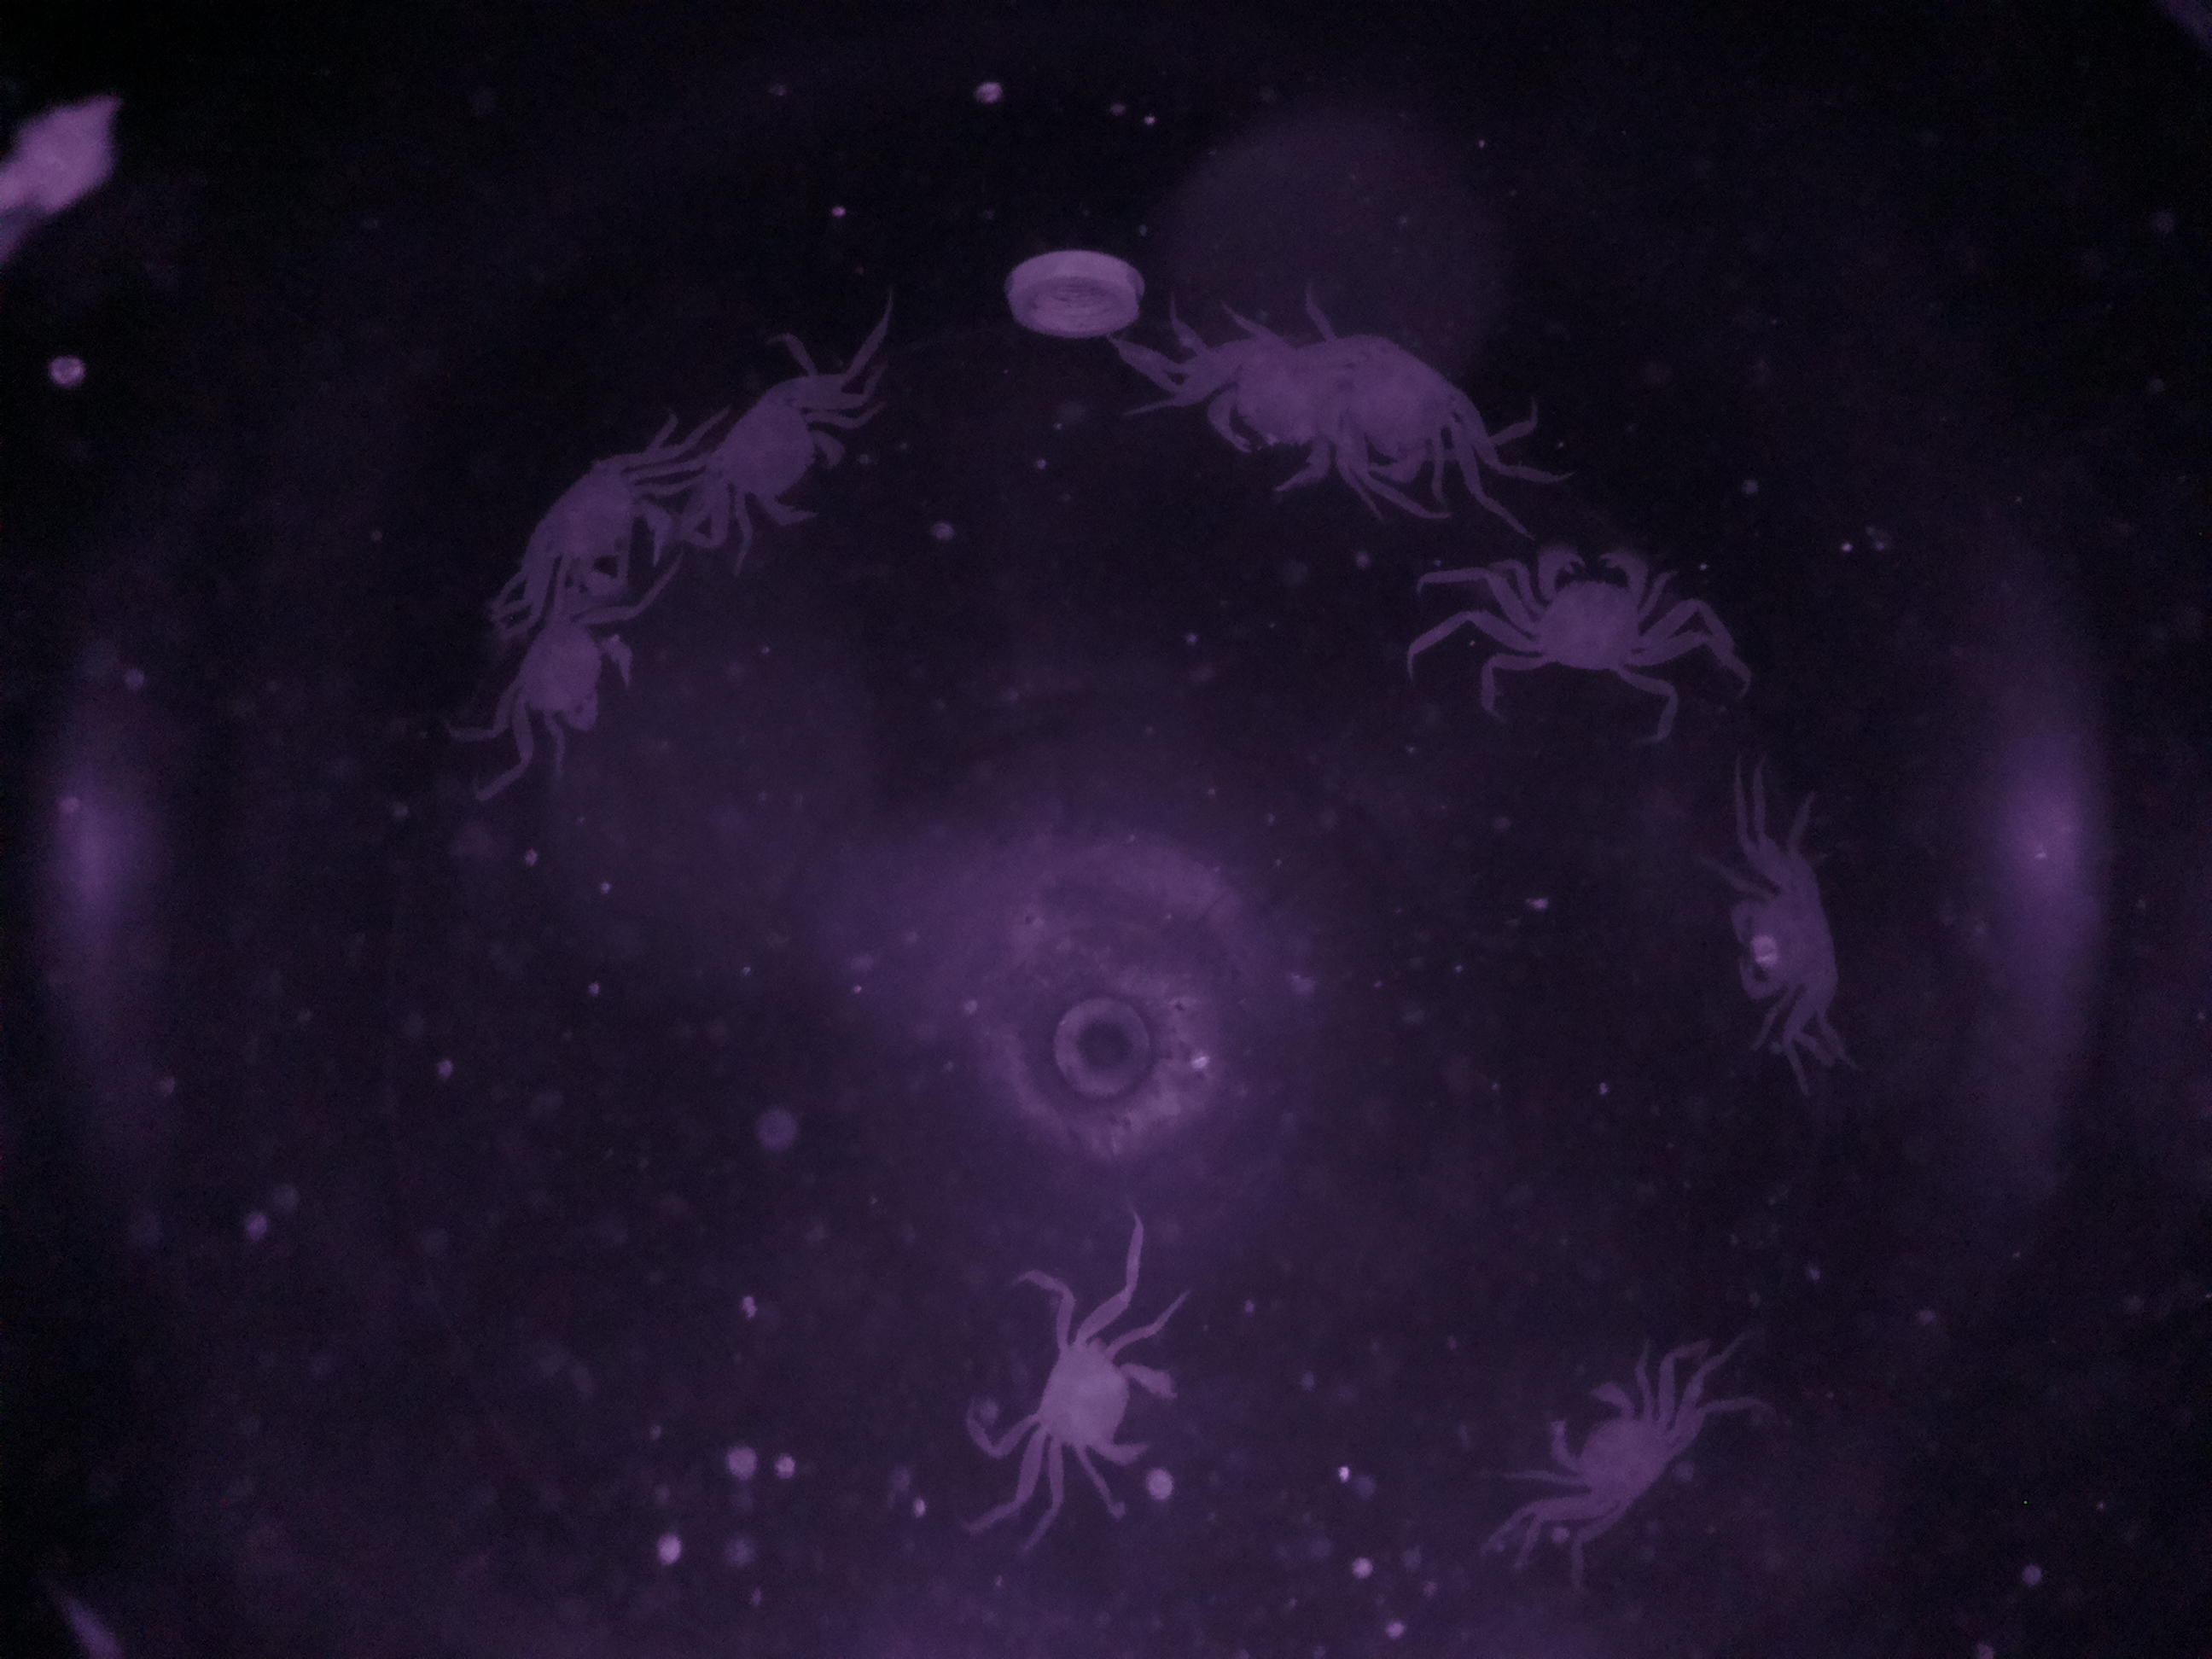Crab: (1508, 1354, 1714, 1558), (1491, 518, 1696, 702), (986, 1307, 1193, 1483), (688, 352, 869, 552)
